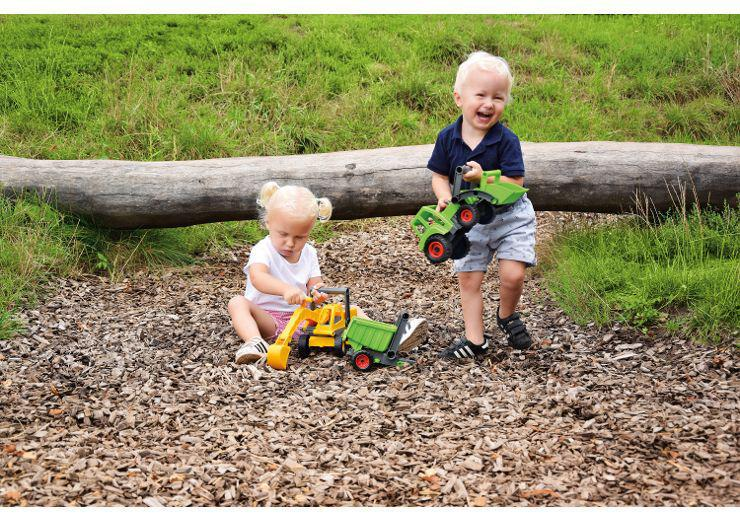child: (414, 46, 552, 360), (206, 178, 352, 373)
